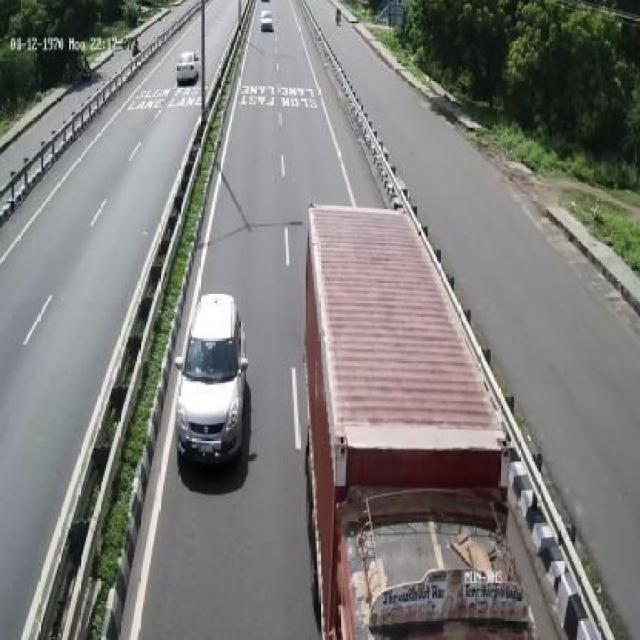car: (177, 286, 252, 476), (177, 48, 201, 86)
